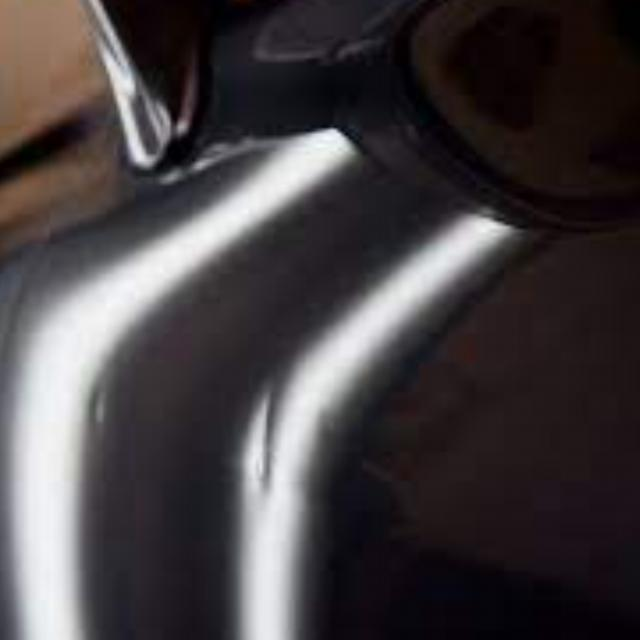dents: (203, 356, 329, 526), (70, 362, 124, 442)
